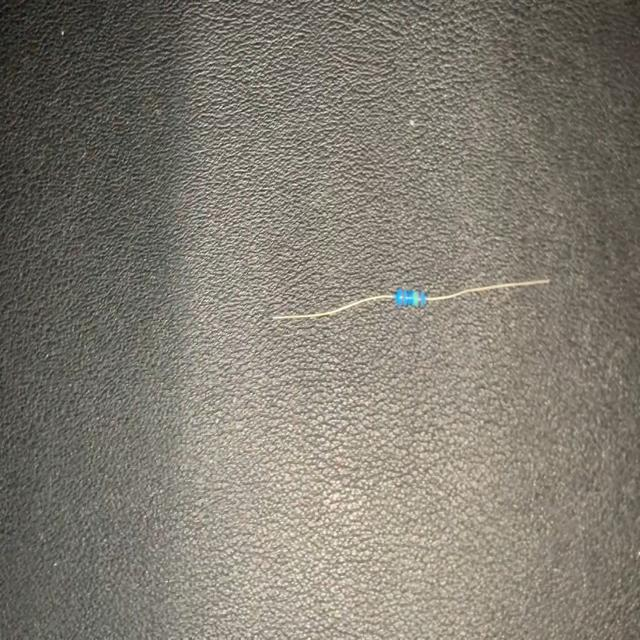resistor: (272, 274, 550, 328)
